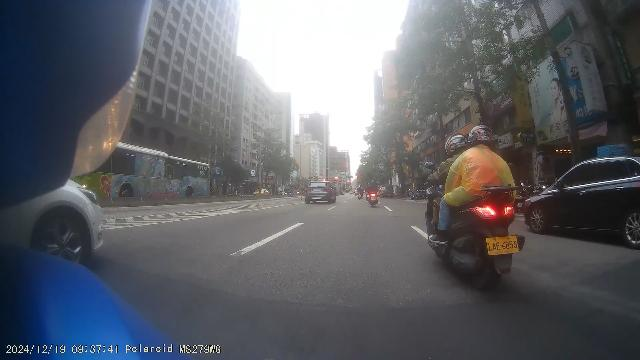plate: (486, 234, 519, 255)
